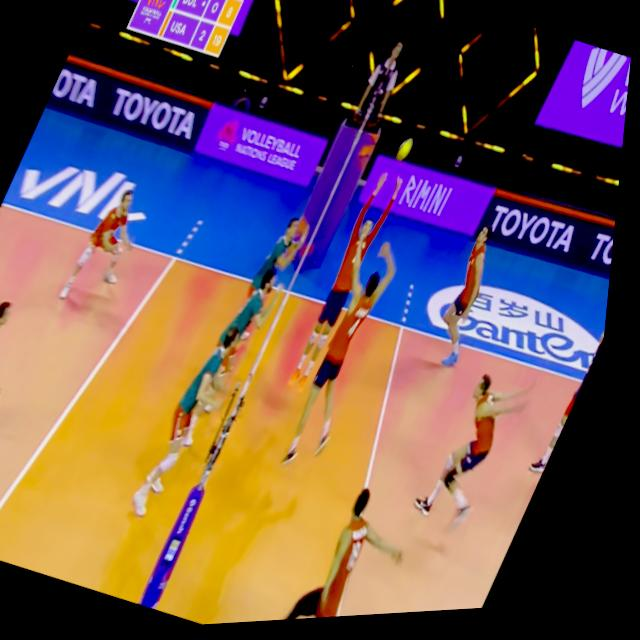player: (273, 255, 416, 480), (286, 168, 414, 403), (136, 323, 264, 533), (417, 369, 551, 555), (286, 474, 432, 624), (421, 221, 531, 384), (60, 180, 167, 319), (201, 265, 298, 417), (0, 277, 57, 498), (247, 213, 321, 321)
